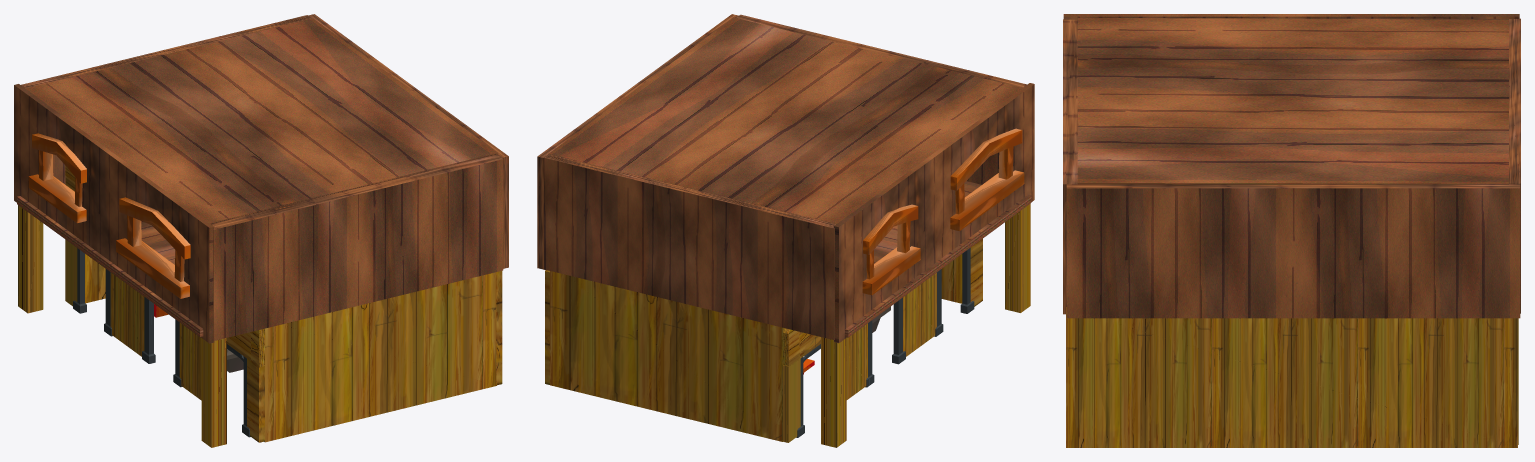
Rendered from loja.fbx.
3 views of the same model, side by side, from view 1: azimuth 30°, elevation 25°; view 2: azimuth 150°, elevation 25°; view 3: azimuth 270°, elevation 25° (orthographic). The views are drawn at different scales.
Parts seen in each view (by area): view 1: teto (×6), textura_deck_porto2 (×10), peitoril (×4), wee (×2); view 2: teto (×6), textura_deck_porto2 (×10), peitoril (×4), wee (×2); view 3: teto (×5), textura_deck_porto2.
Boxes of the visible parts, bbox=[...] form: teto (×6): bbox=[14, 14, 508, 343]; textura_deck_porto2 (×10): bbox=[18, 205, 502, 447]; peitoril (×4): bbox=[28, 133, 190, 298]; wee (×2): bbox=[73, 248, 155, 363]; teto (×6): bbox=[537, 14, 1034, 343]; textura_deck_porto2 (×10): bbox=[545, 203, 1030, 447]; peitoril (×4): bbox=[862, 128, 1024, 295]; wee (×2): bbox=[892, 248, 974, 364]; teto (×5): bbox=[1063, 14, 1520, 318]; textura_deck_porto2: bbox=[1066, 307, 1517, 447].
Size of the model in its own units: 14251 by 10067 by 15615.
